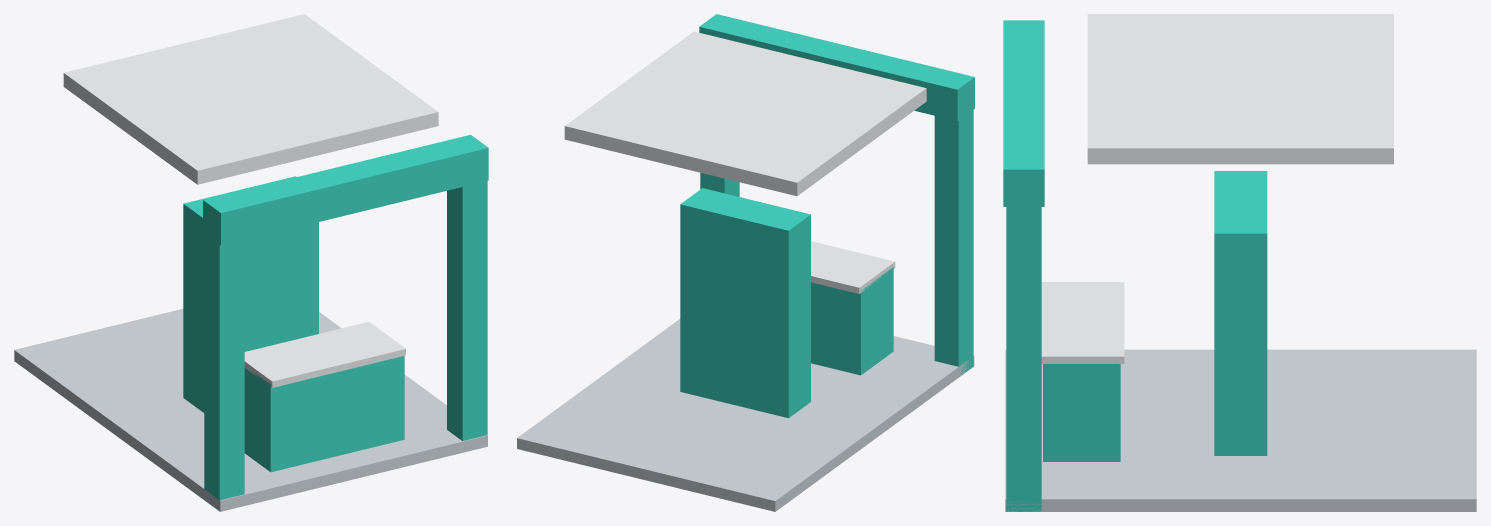
The picture shows the model from 3 angles, left to right: view 1: azimuth 30°, elevation 25°; view 2: azimuth 150°, elevation 25°; view 3: azimuth 270°, elevation 25°; orthographic projection. The views are drawn at different scales.
Visible parts, largest first — view 1: Exhibition Booth Concept; view 2: Exhibition Booth Concept; view 3: Exhibition Booth Concept.
Part boxes in pixels (x1=…): Exhibition Booth Concept: x1=14, y1=14, x2=488, y2=511; Exhibition Booth Concept: x1=517, y1=14, x2=974, y2=511; Exhibition Booth Concept: x1=1003, y1=14, x2=1476, y2=511.
Bounding box in the file's own units: 3 × 3.34 × 4.02.
